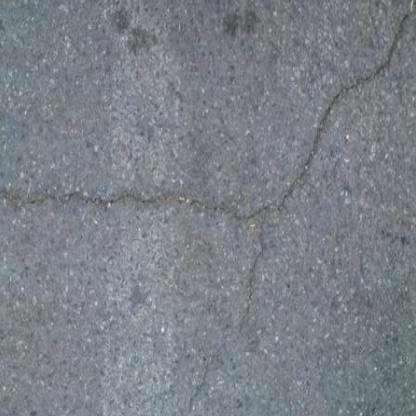Cracks: (0, 152, 299, 249), (272, 0, 352, 243), (214, 164, 288, 403), (157, 340, 240, 416), (351, 0, 416, 97)
